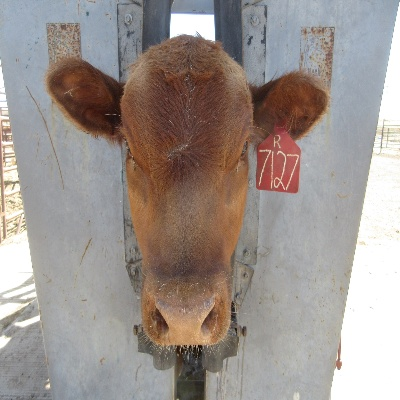fidget_spinner: (147, 293, 224, 353)
